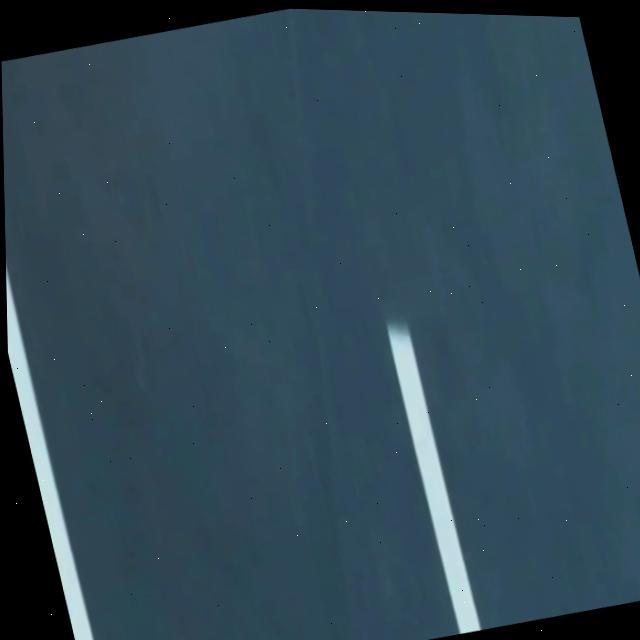center: (388, 324, 482, 633)
right: (6, 265, 95, 640)
